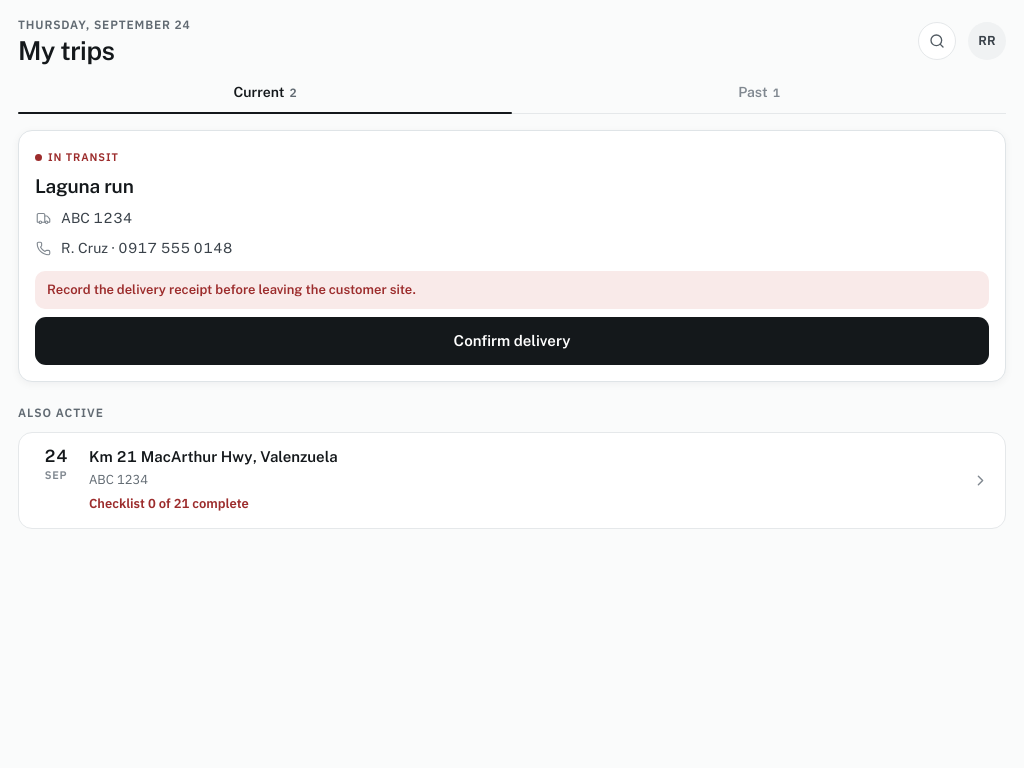
My trips › separates what is still running from what is finished
Expected: the text "Km 21 MacArthur Hwy, Valenzuela" is shown, [89,448,338,465]
Expected: the text "Laguna run" is shown, [35,175,134,197]
Click the tab with aria-label "Past, 1": (759, 97) [512,82,1006,113]
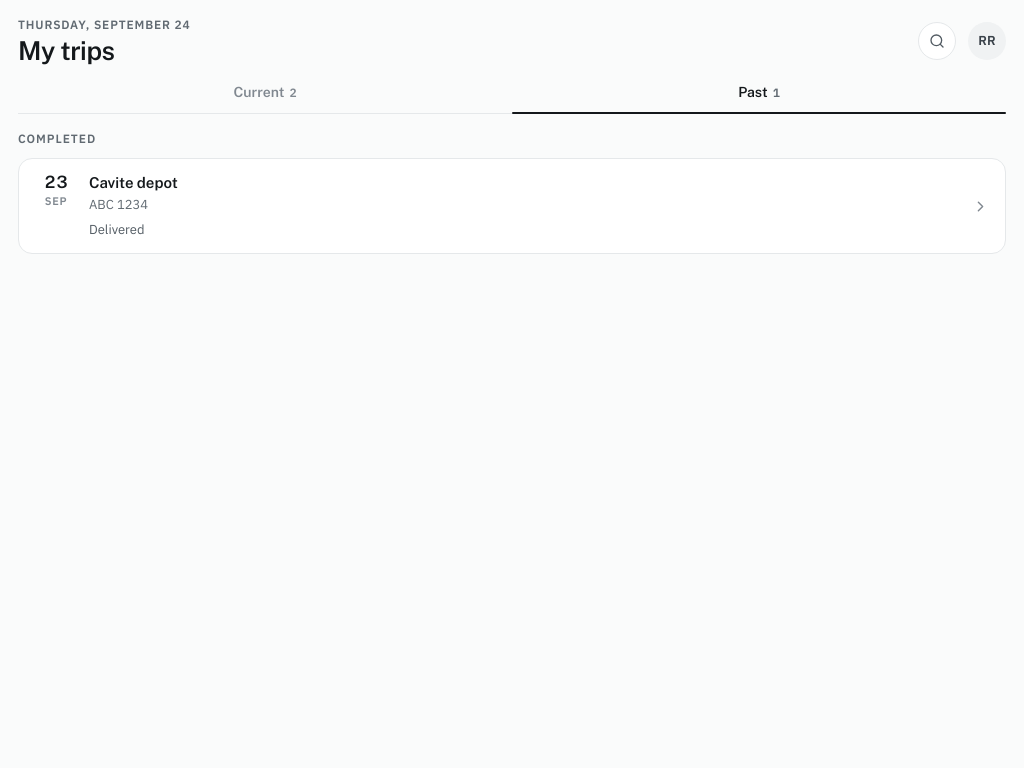
Expected: the text "Cavite depot" is shown, [89,174,178,191]
Expected: the text "Laguna run" is gone
